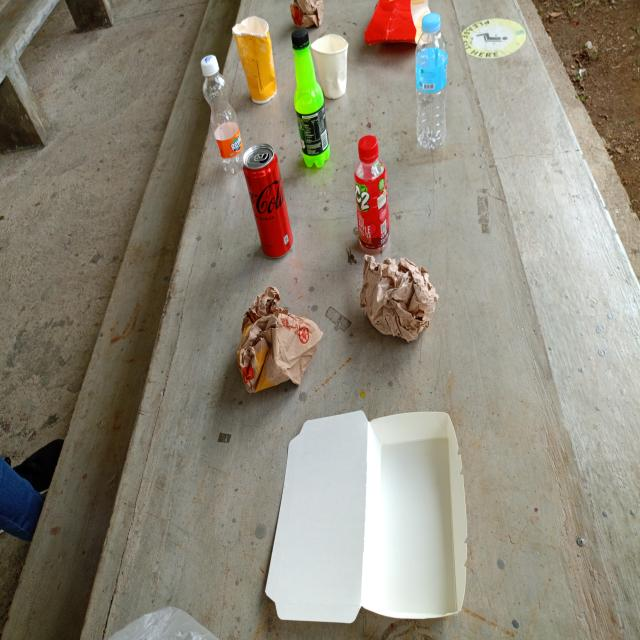Anorganik: (287, 23, 332, 171), (243, 141, 295, 259), (198, 52, 245, 172), (414, 13, 448, 152), (353, 134, 391, 252)
Organik: (264, 408, 470, 624), (235, 284, 323, 393), (357, 250, 440, 344), (228, 14, 276, 105), (362, 0, 434, 50), (310, 34, 350, 98), (290, 0, 325, 31)
